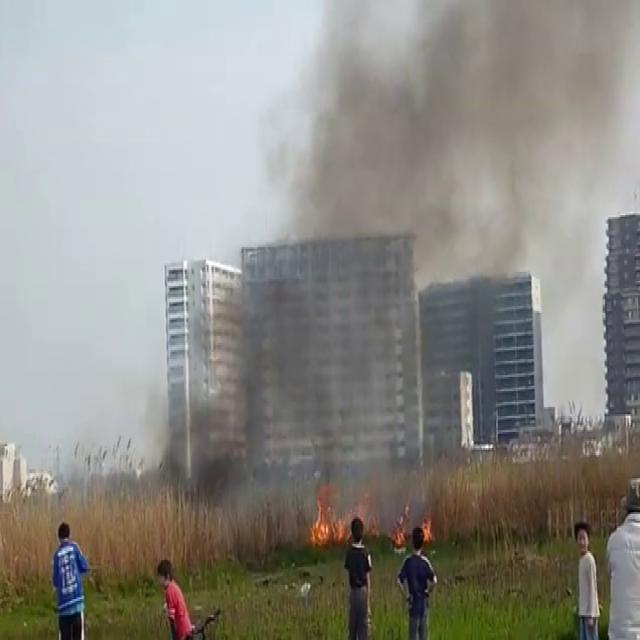Fire: (307, 492, 347, 554)
Smoke: (230, 0, 637, 521)
